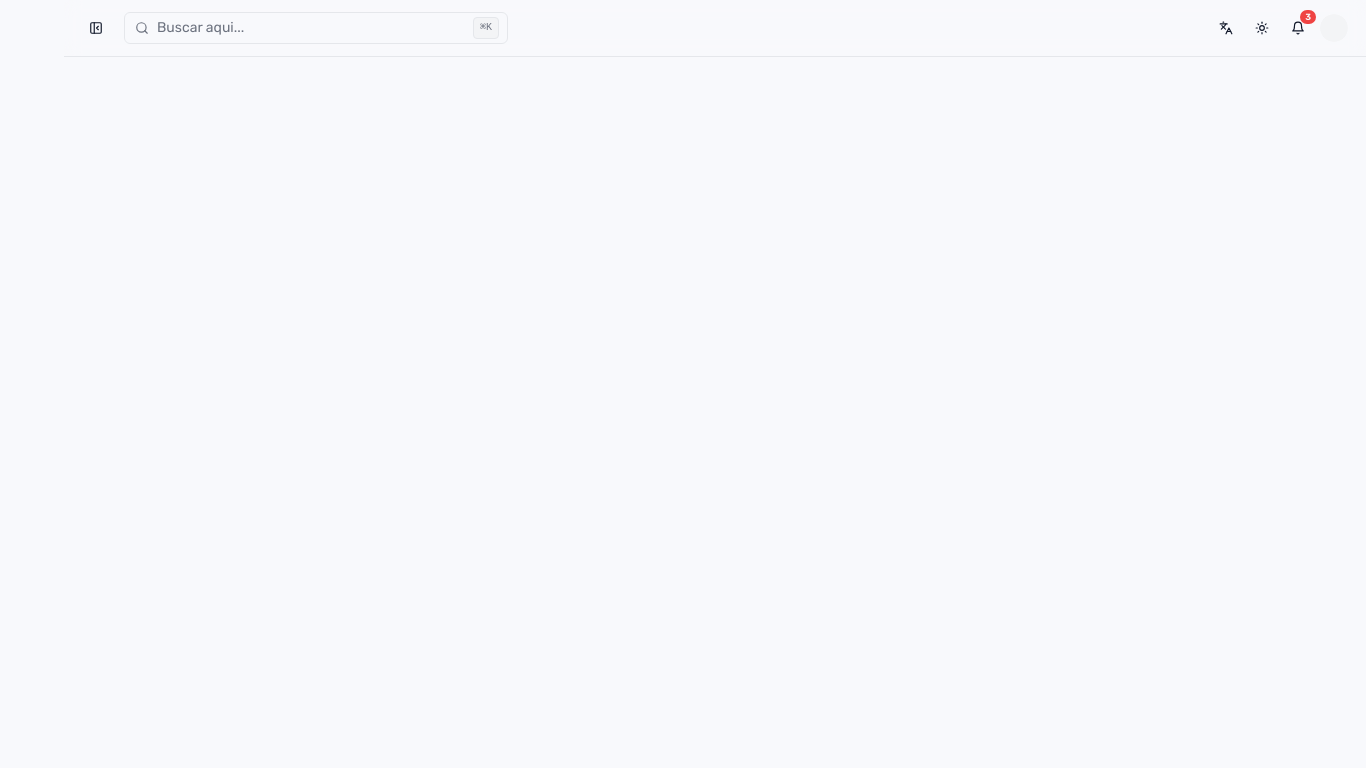
Test case: global search › opens on the intro state with suggestions to try
The image size is (1366, 768).
Click the button "Buscar aqui... ⌘K": (201, 28) [124,12,508,44]
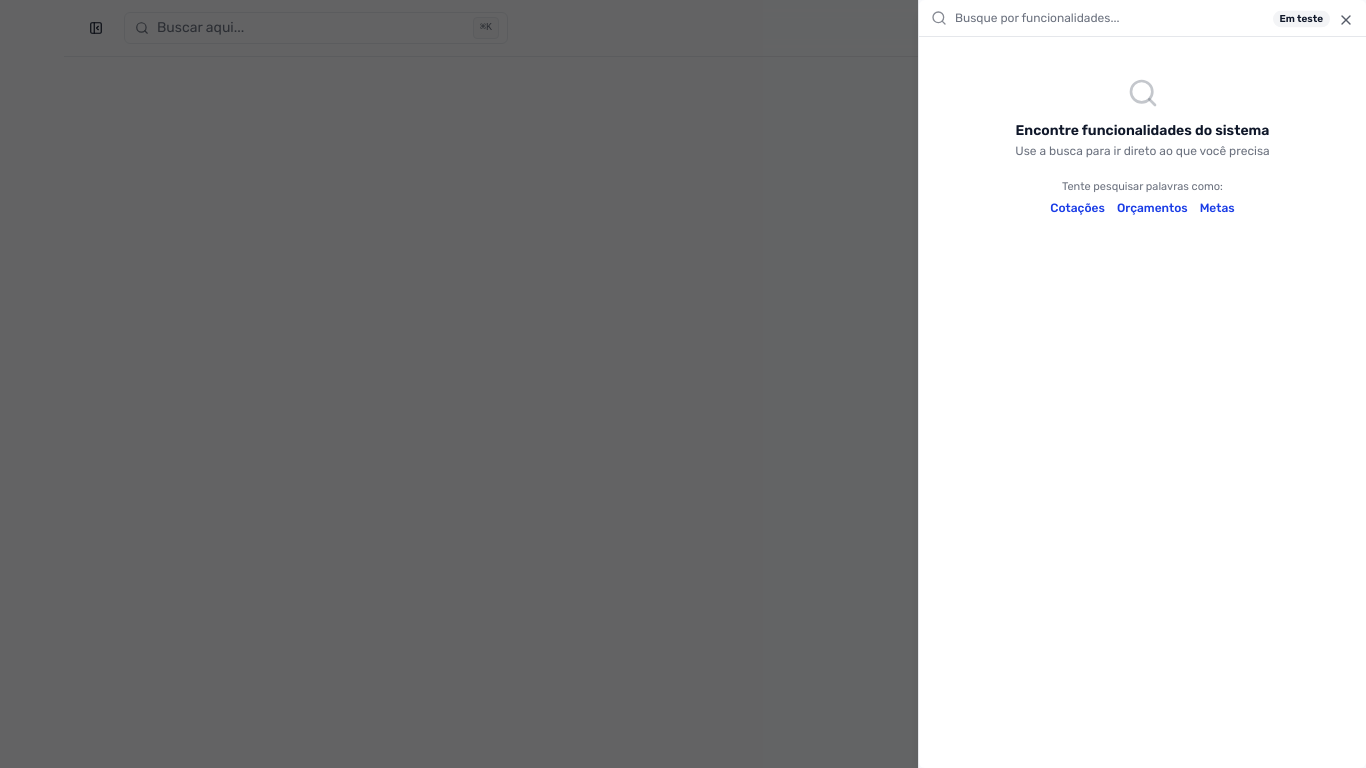
expect the text "Encontre funcionalidades do sistema" is shown: met, box [1016,121,1270,141]
expect the text "Use a busca para ir direto ao que você precisa" is shown: met, box [1015,143,1270,159]
expect the text "Tente pesquisar palavras como:" is shown: met, box [1062,179,1223,196]
